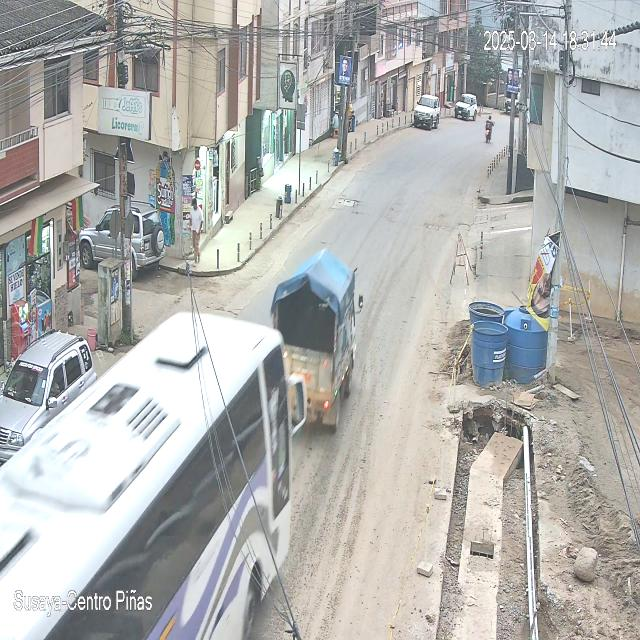BUS: (0, 310, 292, 640)
TRUCK: (270, 248, 356, 426)
